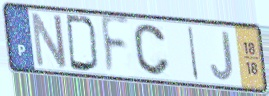C: (132, 22, 172, 78)
D: (64, 13, 101, 74)
F: (99, 14, 132, 78)
I: (186, 24, 200, 82)
J: (209, 30, 235, 83)
N: (29, 10, 69, 70)
